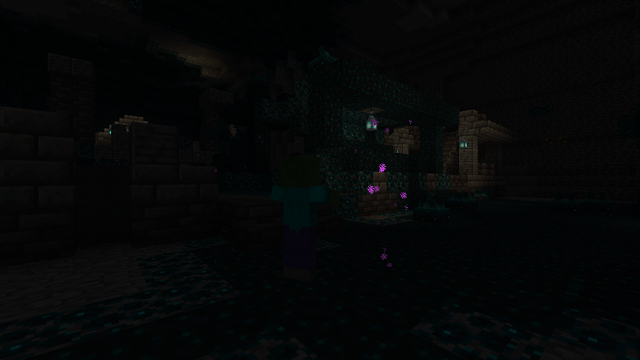zombies: (274, 158, 324, 287)
